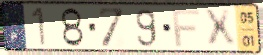1: (30, 6, 47, 48)
7: (98, 6, 125, 49)
8: (60, 7, 86, 48)
9: (135, 8, 158, 49)
F: (170, 8, 202, 48)
X: (201, 8, 238, 49)
